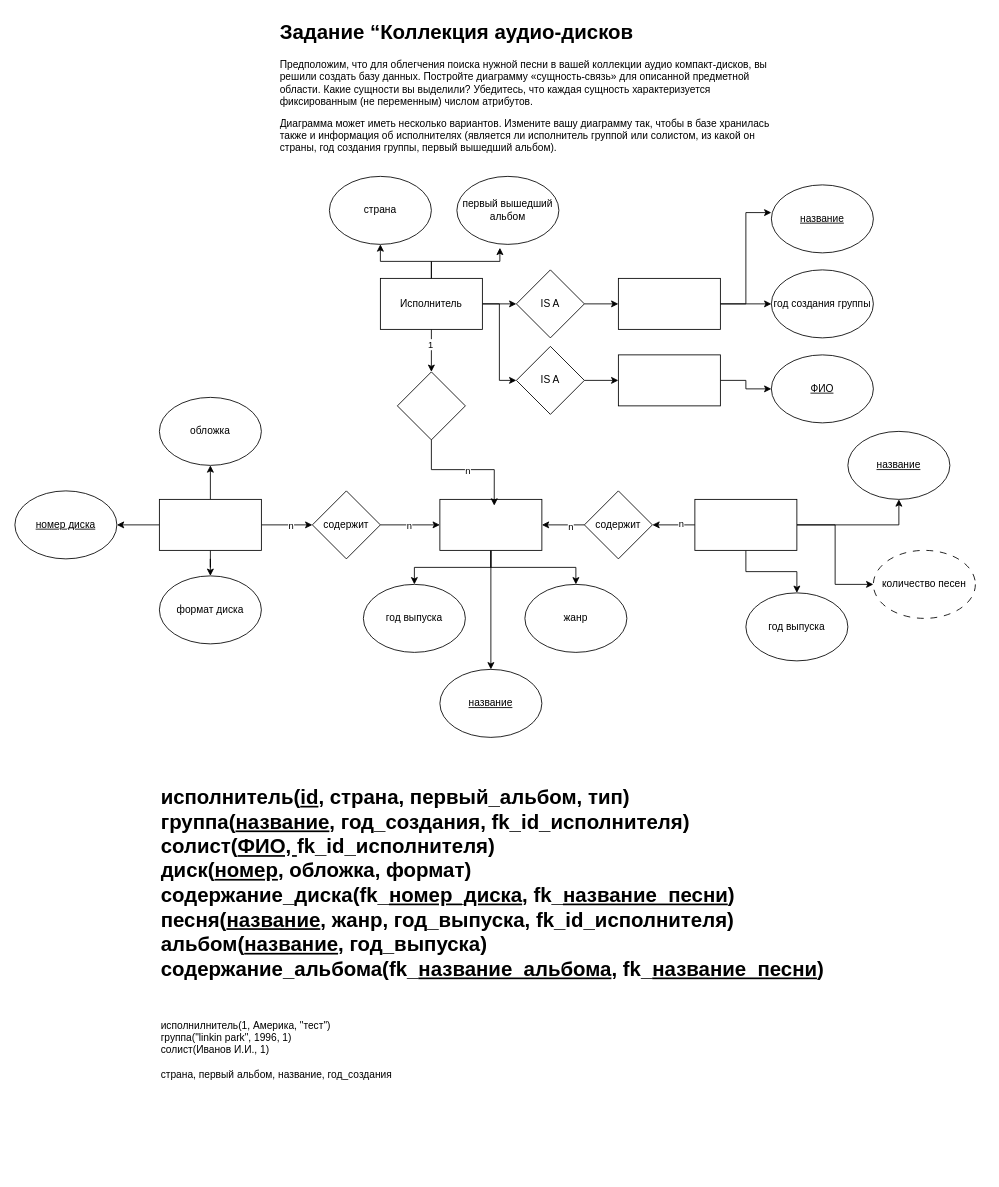
Image size: 999x1187. Some labels were removed from this diagram. The shapes that lost their labels are listed below. From the top down, each one's centre as x and y in pixels, then its label:
the point at 669,303: Группа
the point at 669,380: Солист
the point at 431,405: исполняет
the point at 210,524: Диск
the point at 490,524: Песня
the point at 745,524: Альбом
